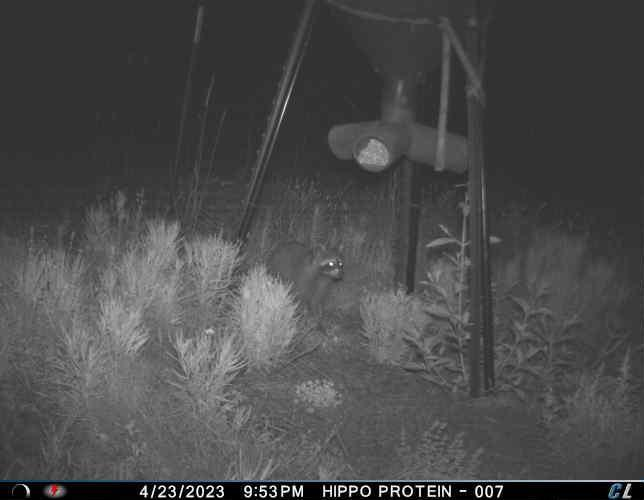Raccoon: (265, 238, 349, 326)
